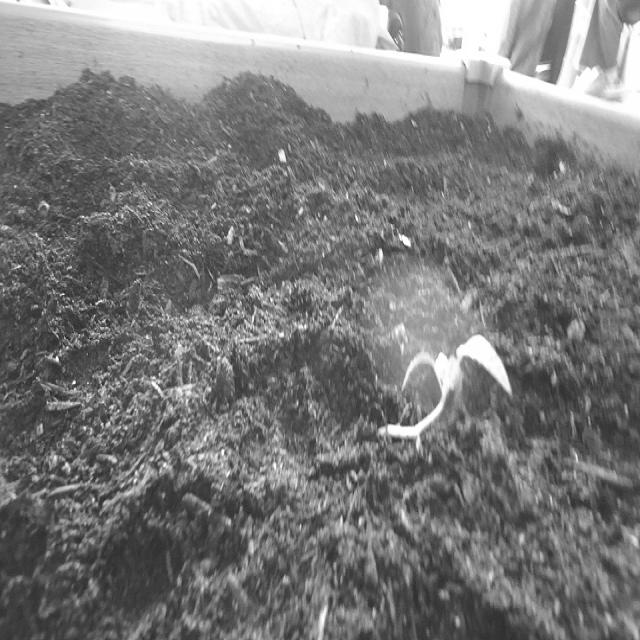Unhealthy: (369, 310, 517, 455)
